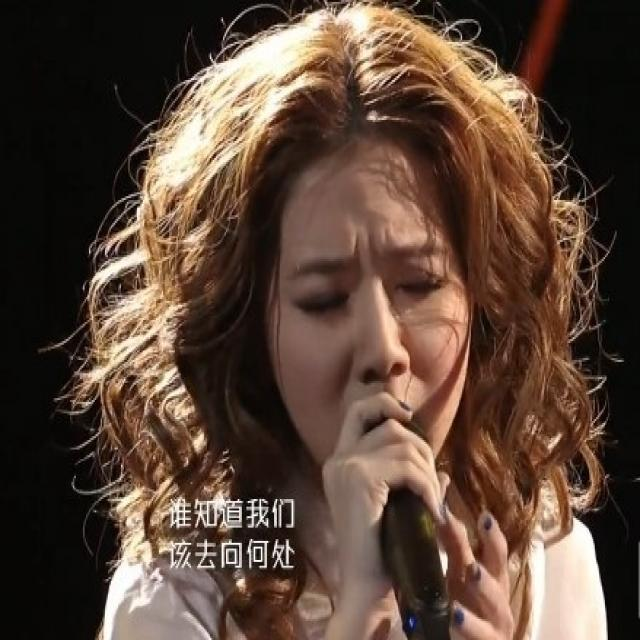nomask: (271, 159, 470, 489)
